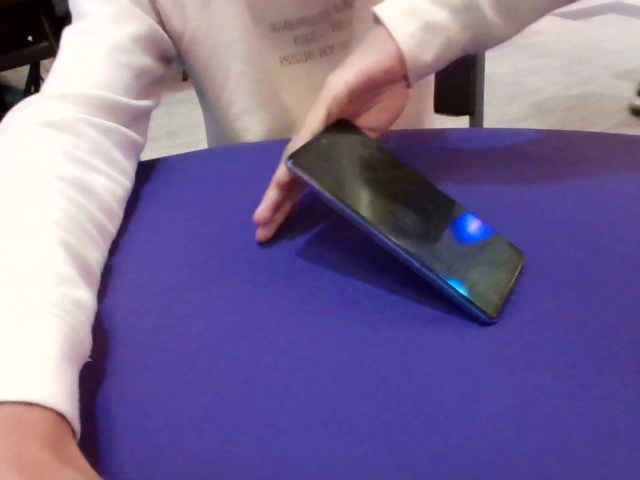celular: (257, 119, 528, 327)
